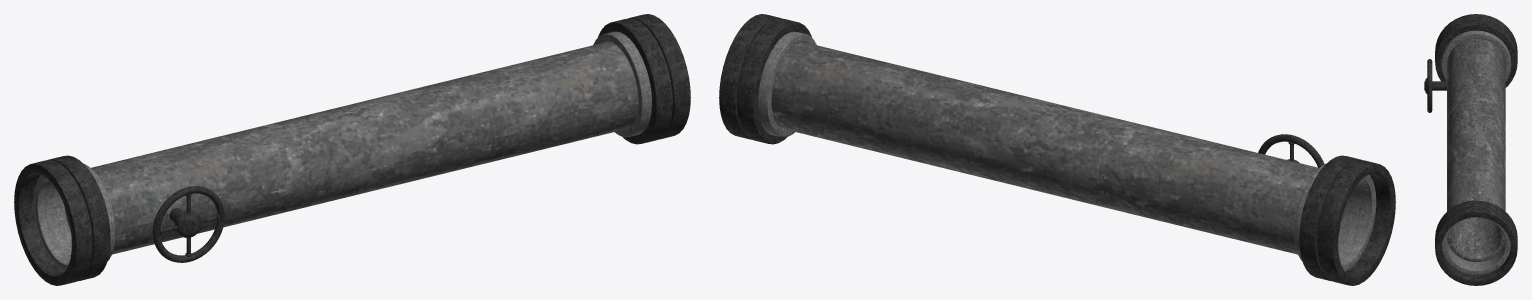
The model's file is Water Pipe with Key.fbx.
3 renders of one model, left to right at view 1: azimuth 30°, elevation 25°; view 2: azimuth 150°, elevation 25°; view 3: azimuth 270°, elevation 25°, orthographic. The views are drawn at different scales.
Visible parts, largest first — view 1: Tube, Head_2, Head, Torus, Extrude_1; view 2: Tube, Head_2, Head, Torus; view 3: Tube, Head, Head_2, Torus, Extrude_2.
Part boxes in pixels (x1,y1,x2,y2): Tube: [64, 42, 638, 254]; Head_2: [14, 155, 115, 285]; Head: [593, 14, 690, 144]; Torus: [152, 186, 224, 262]; Extrude_1: [175, 210, 201, 237]; Tube: [771, 42, 1345, 254]; Head_2: [1294, 155, 1395, 285]; Head: [719, 14, 816, 144]; Torus: [1258, 134, 1324, 167]; Tube: [1447, 38, 1505, 262]; Head: [1435, 200, 1517, 285]; Head_2: [1435, 14, 1517, 87]; Torus: [1427, 59, 1432, 112]; Extrude_2: [1424, 81, 1447, 90].
Size of the model in its own units: 1901 by 336 by 379.
Materials: 1 (1 with a texture image).
